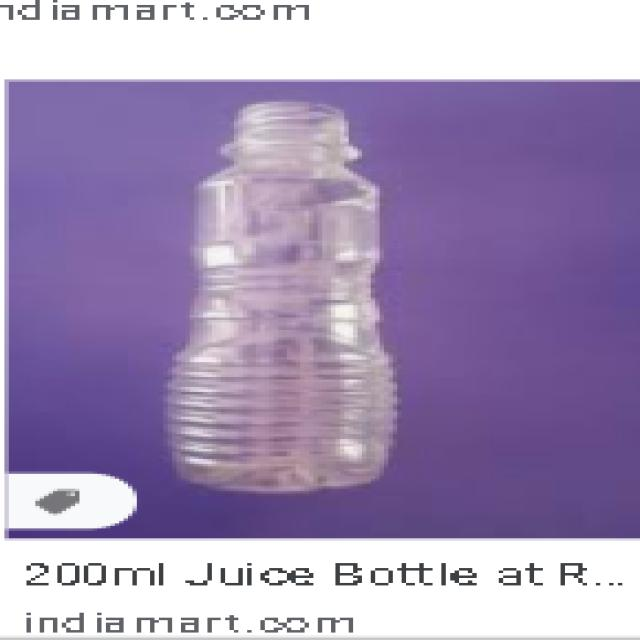litter: (178, 105, 410, 497)
